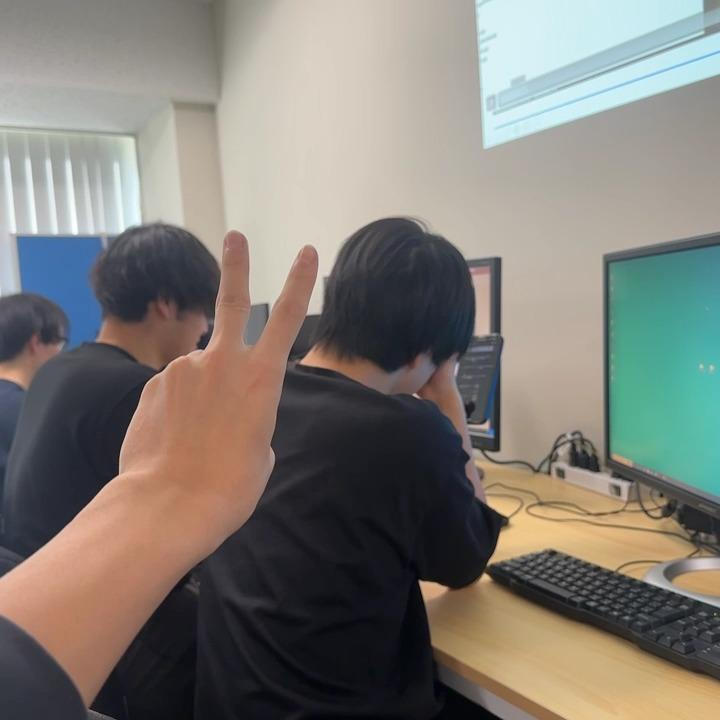without_gloves: (0, 0, 425, 552)
